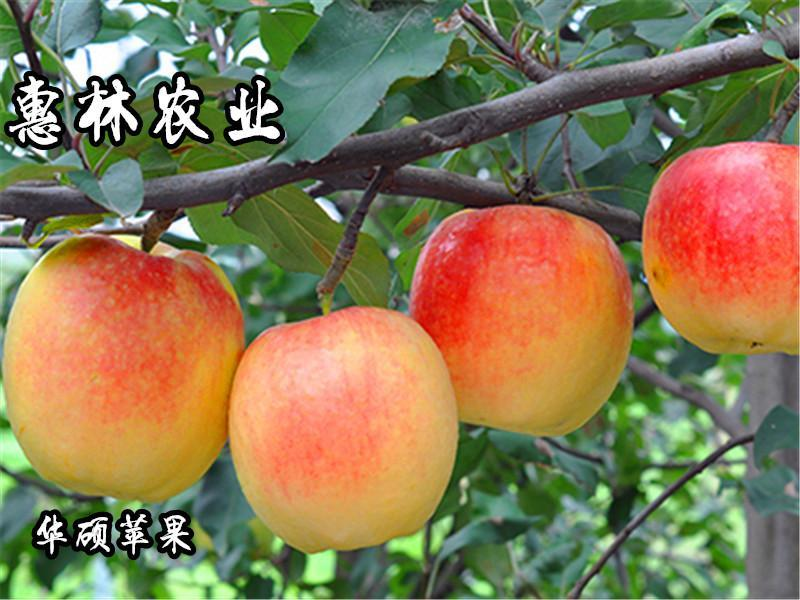apple: (1, 233, 245, 502), (220, 305, 456, 551), (403, 205, 634, 440), (642, 143, 800, 356)
